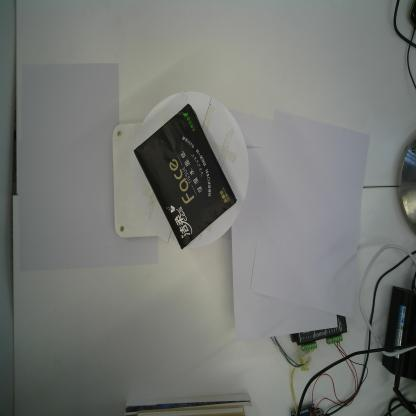Tissue: (133, 103, 237, 249)
